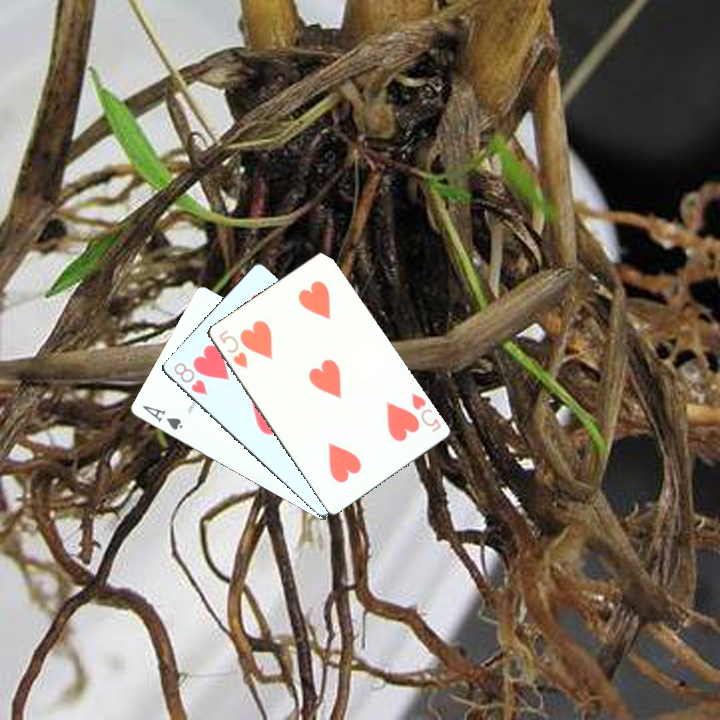5h: (214, 325, 251, 372), (407, 388, 444, 435)
8h: (170, 358, 210, 398)
As: (138, 401, 185, 433)
